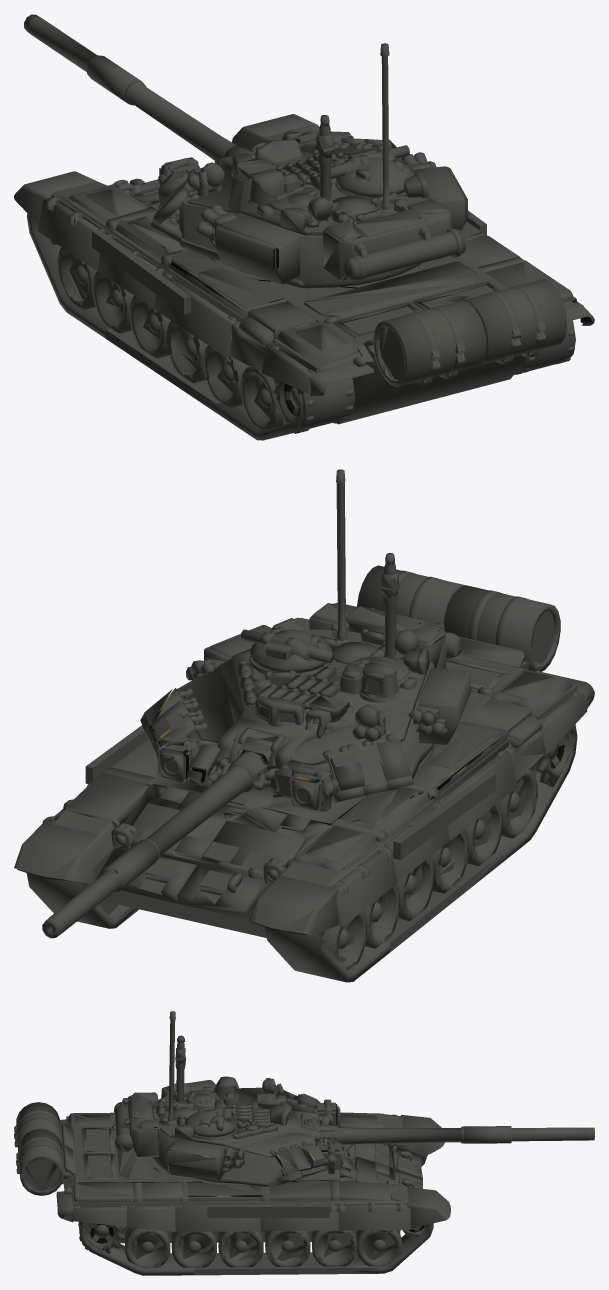
The picture shows the model from 3 angles, top to bottom: view 1: azimuth 30°, elevation 25°; view 2: azimuth 150°, elevation 25°; view 3: azimuth 270°, elevation 25°; orthographic projection. The views are drawn at different scales.
Visible parts, largest first — view 1: hull, turret, barrel; view 2: hull, turret, barrel; view 3: hull, turret, barrel.
Boxes of the visible parts, x1=… form: hull: x1=14, y1=114, x2=594, y2=440; turret: x1=131, y1=43, x2=507, y2=307; barrel: x1=24, y1=14, x2=252, y2=161; hull: x1=14, y1=565, x2=594, y2=982; turret: x1=149, y1=469, x2=502, y2=825; barrel: x1=42, y1=751, x2=276, y2=938; hull: x1=14, y1=1088, x2=450, y2=1275; turret: x1=77, y1=1011, x2=343, y2=1241; barrel: x1=320, y1=1124, x2=594, y2=1144.
Size of the model in its own units: 3.89 by 4.17 by 9.68.
3 materials, 1 textured.
